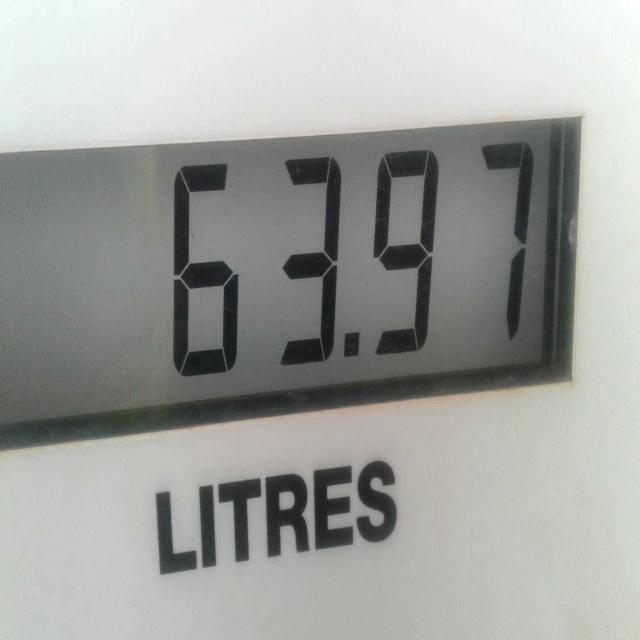.: (337, 322, 366, 382)
3: (255, 154, 345, 366)
6: (160, 160, 254, 388)
7: (464, 130, 536, 354)
9: (364, 141, 443, 383)
